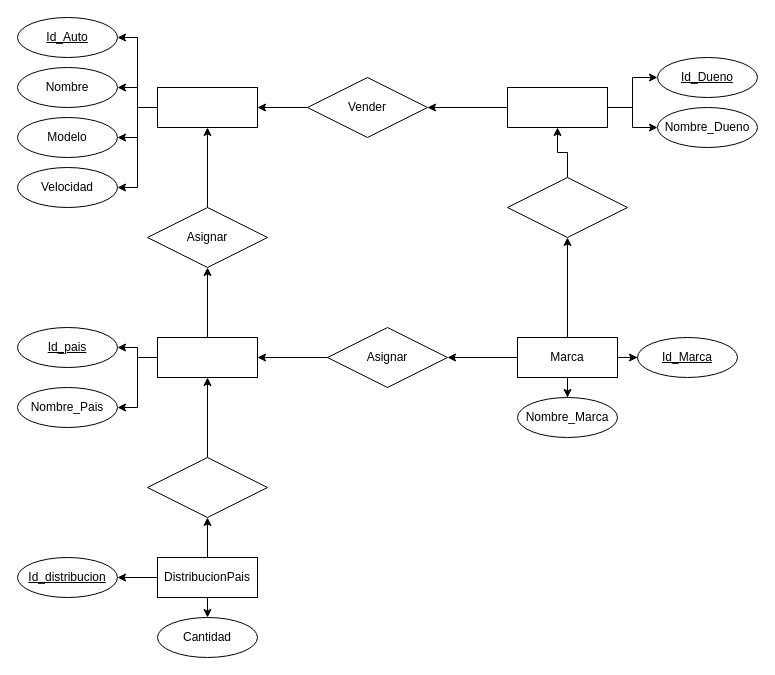
Image size: 775x675. Some labels were removed from this diagram. Here are the shapes that lost their labels. From the top down, the centre of each, then its label:
At [207,107]: "Autos deportivos".
At [557,107]: "Dueno".
At [567,207]: "Pertenecer".
At [207,357]: "Paises".
At [207,487]: "Distribuye".
